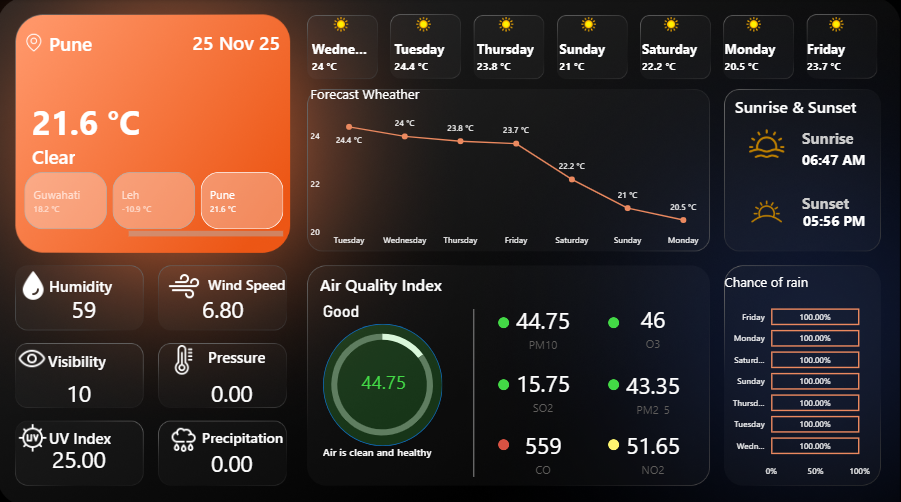

The dashboard page shown, as its layout file describes it:
{"tool":"powerbi","page":{"name":"Page 1","canvas":[1280,720],"ordinal":0},"visuals":[{"type":"advancedSlicerVisual","fields":{"Values":["Locations.location.name"],"Label":["_Measures.Curr_temp_C"]},"box":[32,240,378,104],"z":0},{"type":"shape","box":[50,141.2,171.2,63.8],"z":1000},{"type":"shape","box":[50,205,190,35],"z":2000},{"type":"shape","box":[257.1,42.9,144.4,38.1],"z":3000},{"type":"shape","box":[73,42.9,157.1,39.7],"z":4000},{"type":"image","box":[40,47.5,25,27.5],"z":5000},{"type":"image","box":[25.6,487.8,47.8,44.4],"z":6000},{"type":"shape","box":[72.2,493.1,108.3,38.9],"z":7000},{"type":"image","box":[30.2,383.3,42.7,46.9],"z":8000},{"type":"image","box":[239.8,489.8,50,42],"z":9000},{"type":"image","box":[230.4,383.9,67.9,46.4],"z":10000},{"type":"shape","box":[73.6,387.5,106.9,38.9],"z":11000},{"type":"shape","box":[298.6,387.5,111.1,33.3],"z":12000},{"type":"shape","box":[298.6,487.5,111.1,38.9],"z":13000},{"type":"shape","box":[73.6,602.8,106.9,38.9],"z":14000},{"type":"shape","box":[290.3,601.4,119.4,38.9],"z":15000},{"type":"image","box":[26.1,601.1,50,42],"z":16000},{"type":"image","box":[239.8,603.4,50,42],"z":17000},{"type":"card","fields":{"Values":["Sum(current.current.humidity)"]},"box":[76.5,407.1,92.9,67.1],"z":18000},{"type":"card","fields":{"Values":["Sum(current.current.wind_kph)"]},"box":[274.1,407.1,92.9,67.1],"z":19000},{"type":"card","fields":{"Values":["Sum(forcast_day.forecast.forecastday.day.totalprecip_in)"]},"box":[285.9,525.9,92.9,67.1],"z":20000},{"type":"card","fields":{"Values":["Sum(forcast_day.forecast.forecastday.day.uv)"]},"box":[69.4,620,92.9,67.1],"z":21000},{"type":"card","fields":{"Values":["Sum(forcast_hour.forecast.forecastday.hour.precip_mm)"]},"box":[285.9,624.7,92.9,67.1],"z":22000},{"type":"card","fields":{"Values":["Sum(current.current.vis_km)"]},"box":[69.4,525.9,92.9,67.1],"z":23000},{"type":"advancedSlicerVisual","fields":{"Values":["forcast_day.Day_Name"]},"box":[427.7,10.8,824.6,112.3],"z":24000},{"type":"lineChart","title":"Forecast Wheather","fields":{"Y":["Sum(forcast_day.forecast.forecastday.day.avgtemp_c)"],"Category":["forcast_day.Day_Name"]},"box":[440,121.7,570,238.3],"z":25000},{"type":"shape","box":[1046,133.3,179.4,39.7],"z":26000},{"type":"shape","box":[1140.3,196.2,131.7,61.9],"z":27000},{"type":"shape","box":[1142.3,282.7,130.8,61.5],"z":28000},{"type":"shape","box":[1140.3,166.1,131.7,61.9],"z":29000},{"type":"shape","box":[1140.3,258.2,131.7,61.9],"z":30000},{"type":"image","box":[1055.6,180.6,69.4,50],"z":31000},{"type":"image","box":[1055.6,272.2,69.4,58.3],"z":32000},{"type":"hundredPercentStackedBarChart","title":"Chance of rain","fields":{"Y":["Sum(forcast_day.forecast.forecastday.day.daily_chance_of_rain)","current.Left_value_rain"],"Category":["forcast_day.Day_Name"]},"box":[1026.5,388.2,216.2,298.5],"z":33000},{"type":"shape","box":[457.5,385,180,40],"z":34000},{"type":"card","fields":{"Values":["Sum(current.current.air_quality.pm10)"]},"box":[725.9,431,96.6,70.7],"z":35000},{"type":"card","fields":{"Values":["Sum(current.current.air_quality.so2)"]},"box":[725.9,520.7,96.6,70.7],"z":36000},{"type":"card","fields":{"Values":["Sum(current.current.air_quality.pm2_5)"]},"box":[881,522.4,96.6,70.7],"z":37000},{"type":"card","fields":{"Values":["Sum(current.current.air_quality.o3)"]},"box":[881,429.3,96.6,70.7],"z":38000},{"type":"card","fields":{"Values":["Sum(current.current.air_quality.co)"]},"box":[725.9,608.6,96.6,70.7],"z":39000},{"type":"card","fields":{"Values":["Sum(current.current.air_quality.no2)"]},"box":[881,608.6,96.6,70.7],"z":40000},{"type":"shape","box":[710,450,16,16],"z":41000},{"type":"shape","box":[710,624,16,16],"z":42000},{"type":"shape","box":[710,538,16,16],"z":43000},{"type":"shape","box":[866,450,16,16],"z":44000},{"type":"shape","box":[866,538,16,16],"z":45000},{"type":"shape","box":[866,624,16,16],"z":46000},{"type":"shape","box":[640,440,70,238],"z":47000},{"type":"card","fields":{"Values":["Sum(current.current.air_quality.pm10)"]},"box":[500,508.3,95.8,69.4],"z":48000},{"type":"donutChart","fields":{"Y":["Sum(current.current.air_quality.pm10)","_Measures.Left_value_PM10"]},"box":[451.4,447.2,190.3,197.2],"z":49000},{"type":"shape","box":[462.5,429.2,169.4,204.2],"z":50000},{"type":"shape","box":[462.5,631.9,179.2,40.3],"z":51000}]}

Visuals, with their boxes in screenshot pixels (x1, y1, x2, y2), scaled from the page's 1280x720 canvas onto the 901x502 screenshot:
advancedSlicerVisual - Locations.location.name x _Measures.Curr_temp_C: (23,167,289,240)
shape: (35,98,156,143)
shape: (35,143,169,167)
shape: (181,30,283,56)
shape: (51,30,162,58)
image: (28,33,46,52)
image: (18,340,52,371)
shape: (51,344,127,371)
image: (21,267,51,300)
image: (169,341,204,371)
image: (162,268,210,300)
shape: (52,270,127,297)
shape: (210,270,288,293)
shape: (210,340,288,367)
shape: (52,420,127,447)
shape: (204,419,288,446)
image: (18,419,54,448)
image: (169,421,204,450)
card - Sum(current.current.humidity): (54,284,119,331)
card - Sum(current.current.wind_kph): (193,284,258,331)
card - Sum(forcast_day.forecast.forecastday.day.totalprecip_in): (201,367,267,413)
card - Sum(forcast_day.forecast.forecastday.day.uv): (49,432,114,479)
card - Sum(forcast_hour.forecast.forecastday.hour.precip_mm): (201,436,267,482)
card - Sum(current.current.vis_km): (49,367,114,413)
advancedSlicerVisual - forcast_day.Day_Name: (301,8,882,86)
"Forecast Wheather" lineChart: (310,85,711,251)
shape: (736,93,863,121)
shape: (803,137,895,180)
shape: (804,197,896,240)
shape: (803,116,895,159)
shape: (803,180,895,223)
image: (743,126,792,161)
image: (743,190,792,230)
"Chance of rain" hundredPercentStackedBarChart: (723,271,875,479)
shape: (322,268,449,296)
card - Sum(current.current.air_quality.pm10): (511,301,579,350)
card - Sum(current.current.air_quality.so2): (511,363,579,412)
card - Sum(current.current.air_quality.pm2_5): (620,364,688,414)
card - Sum(current.current.air_quality.o3): (620,299,688,349)
card - Sum(current.current.air_quality.co): (511,424,579,474)
card - Sum(current.current.air_quality.no2): (620,424,688,474)
shape: (500,314,511,325)
shape: (500,435,511,446)
shape: (500,375,511,386)
shape: (610,314,621,325)
shape: (610,375,621,386)
shape: (610,435,621,446)
shape: (450,307,500,473)
card - Sum(current.current.air_quality.pm10): (352,354,419,403)
donutChart - Sum(current.current.air_quality.pm10) x _Measures.Left_value_PM10: (318,312,452,449)
shape: (326,299,445,442)
shape: (326,441,452,469)
